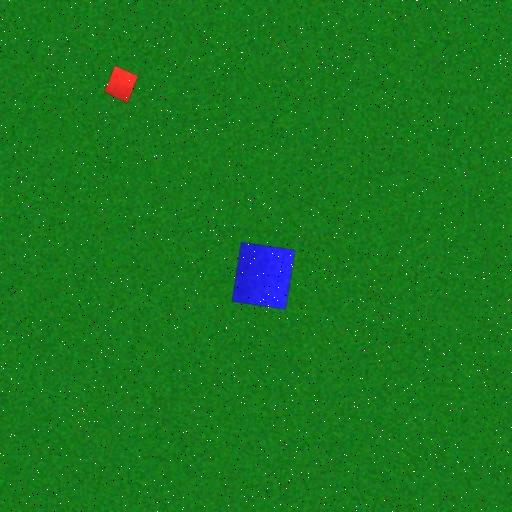BLUE_SQUARE: (231, 242, 296, 310)
RED_SQUARE: (104, 65, 138, 104)
